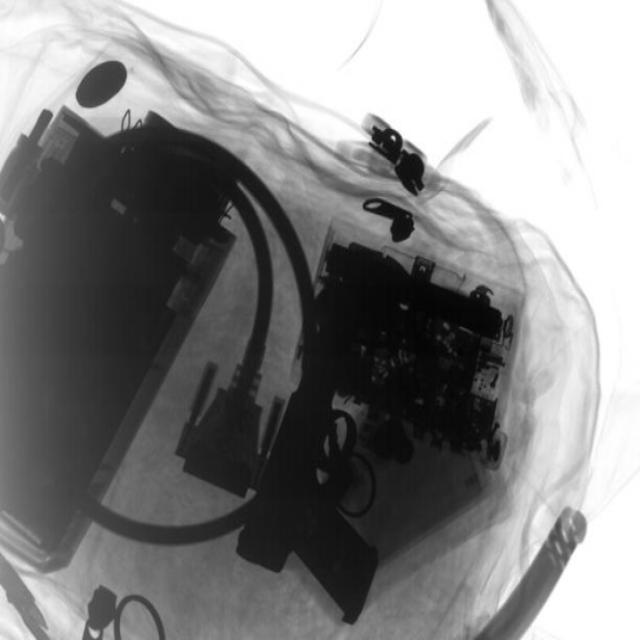GUN: (246, 320, 387, 609)
